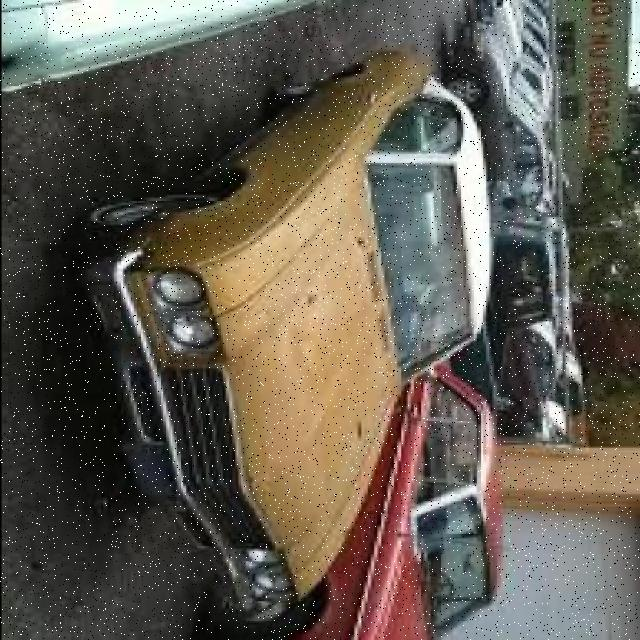damage: (281, 298, 338, 396)
